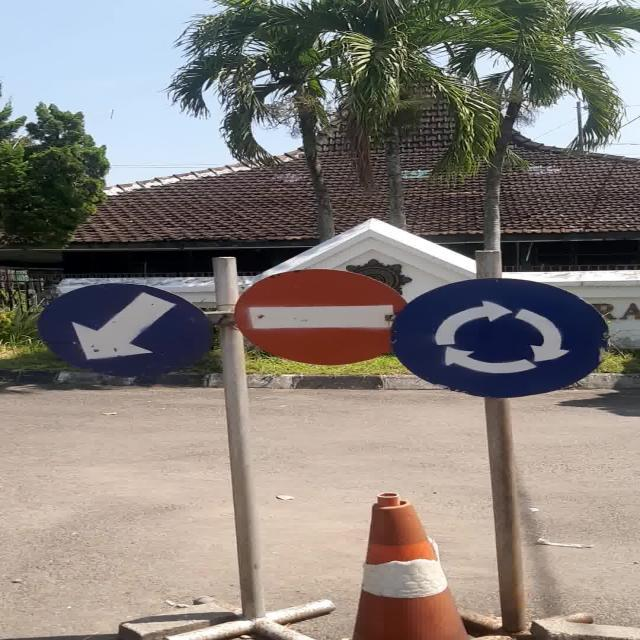Ikuti Bundaran: (391, 278, 609, 399)
Lajur Kiri: (38, 283, 214, 377)
